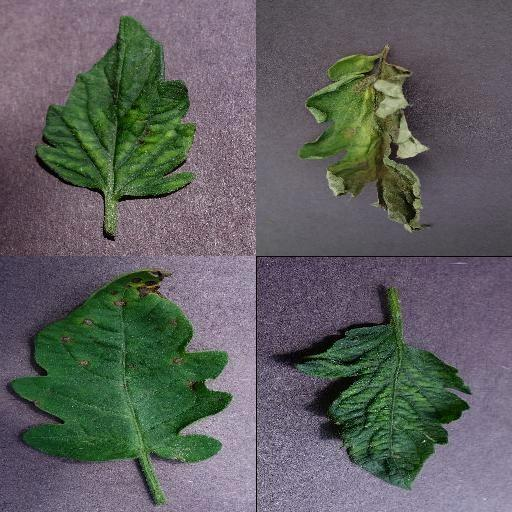Late Blight: (298, 50, 436, 236)
Mosaic Virus: (291, 321, 471, 491), (34, 13, 198, 199)
Septoria: (11, 268, 234, 464)
